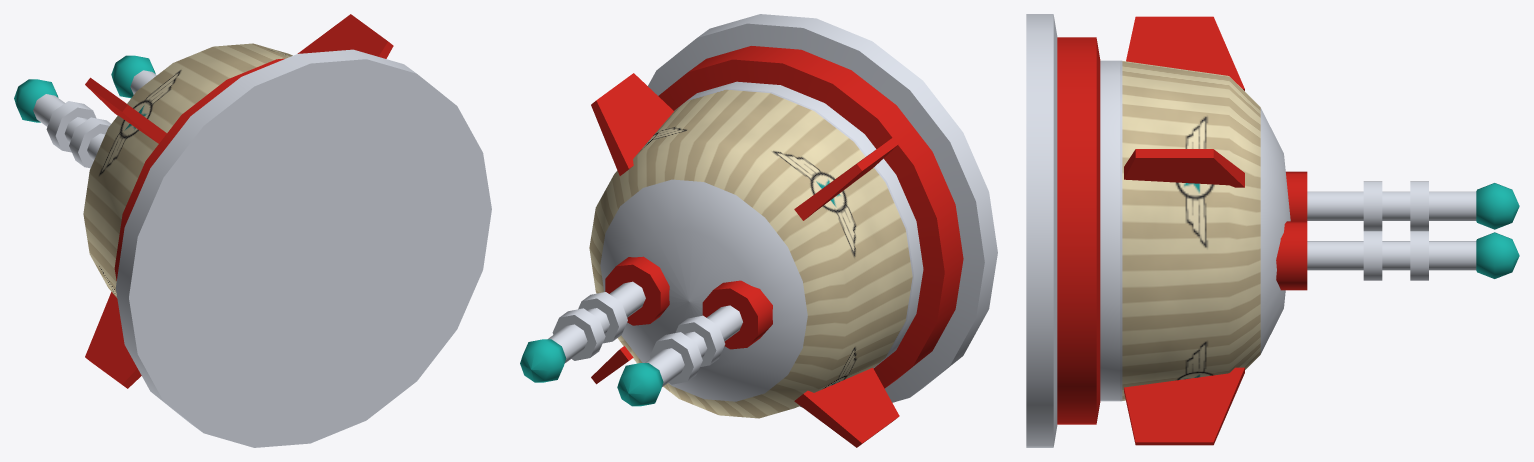
Rendered from guard_turret.obj.
The picture shows the model from 3 angles, left to right: view 1: azimuth 30°, elevation 25°; view 2: azimuth 150°, elevation 25°; view 3: azimuth 270°, elevation 25°; orthographic projection. The views are drawn at different scales.
Parts seen in each view (by area): view 1: base, fin225, gun_ring, gun_tip, fin45, gun, fin315; view 2: base, mantlet, gun_ring, fin225, fin45, gun, gun_tip, fin315, fin135; view 3: base, gun, fin135, fin315, gun_ring, fin45, gun_tip, mantlet.
Boxes of the visible parts, x1,y1,x2,y2 form: base: (83, 43, 491, 447); fin225: (85, 292, 141, 388); gun_ring: (46, 101, 110, 168); gun_tip: (14, 55, 155, 122); fin45: (297, 14, 393, 58); gun: (33, 70, 156, 160); fin315: (85, 77, 166, 143); base: (589, 14, 997, 418); mantlet: (605, 256, 772, 349); gun_ring: (552, 292, 725, 384); fin225: (794, 367, 899, 447); fin45: (591, 73, 673, 175); gun: (548, 281, 742, 386); gun_tip: (520, 339, 663, 406); fin315: (794, 137, 899, 220); fin135: (591, 346, 633, 384); base: (1026, 14, 1290, 447); gun: (1307, 191, 1476, 270); fin135: (1124, 367, 1244, 445); fin315: (1126, 16, 1244, 90); gun_ring: (1363, 181, 1428, 280); fin45: (1124, 149, 1244, 187); gun_tip: (1476, 183, 1519, 278); mantlet: (1276, 171, 1307, 290).
Bounding box in the file's own units: 5.6 × 5.6 × 6.32.
4 materials, 1 textured.
